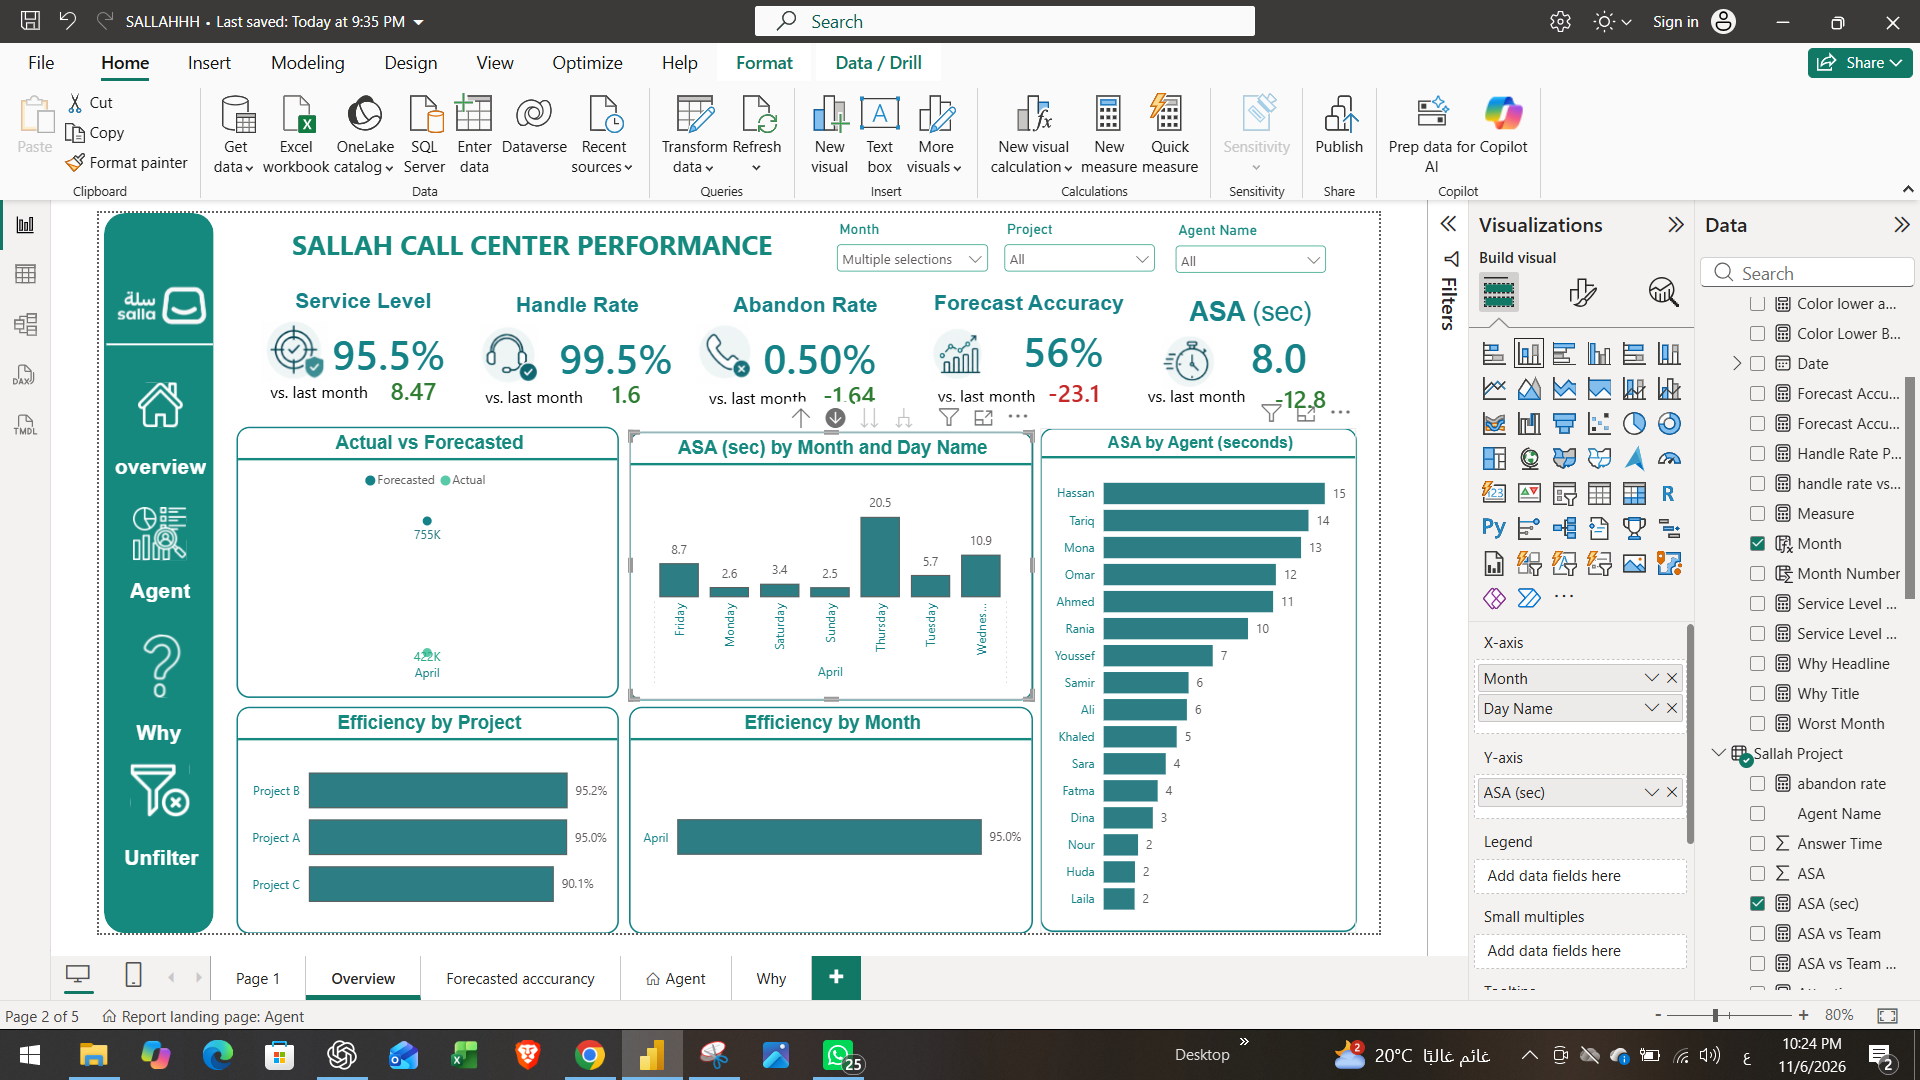

This screenshot's page, from the dashboard's own definition file:
{"tool":"powerbi","page":{"name":"Overview","canvas":[1280,720],"ordinal":1},"visuals":[{"type":"textbox","box":[103,8.2,621.4,52.9],"z":0,"group":"g2"},{"type":"shape","box":[4.8,0,109.8,720.2],"z":1000},{"type":"slicer","fields":{"Values":["Calendar.Month"]},"box":[728.1,2.2,171.3,71.2],"z":1000,"group":"g2"},{"type":"actionButton","box":[826.5,100.4,65.4,79.3],"z":1000,"group":"g1"},{"type":"slicer","fields":{"Values":["Sallah Project.Project"]},"box":[896,2.5,171.1,71],"z":2000,"group":"g2"},{"type":"textbox","box":[1071,78.2,160.5,45.3],"z":2000,"group":"g1"},{"type":"slicer","fields":{"Values":["Sallah Project.Agent Name"]},"box":[1067.2,3.6,171.1,58.4],"z":3000,"group":"g2"},{"type":"actionButton","box":[132.2,100.4,126.6,75.1],"z":3000,"group":"g1"},{"type":"barChart","title":"ASA by Agent (seconds)","fields":{"Category":["Sallah Project.Agent Name"],"Y":["Sallah Project.ASA (sec)"]},"box":[940.8,215.4,317.1,504.3],"z":3000},{"type":"cardVisual","fields":{"Data":["Sallah Project.Handle Rate %"]},"box":[420.9,85.8,192.5,112.5],"z":4000,"group":"g1"},{"type":"lineChart","title":"Actual vs Forecasted","fields":{"Category":["Calendar.Month"],"Y":["Sum(Sallah Project.Forecasted Calls)","Sum(Sallah Project.Calls Offered)"]},"box":[137.1,214.3,382.6,271.3],"z":4000},{"type":"group","id":"g1","title":"Group 1","box":[132.2,64.5,1144.2,150.2],"z":5000},{"type":"actionButton","box":[352,107.1,114.1,68.2],"z":5000,"group":"g1"},{"type":"textbox","box":[369.3,74.8,217,45.9],"z":6000,"group":"g1"},{"type":"barChart","title":"Efficiency by Project","fields":{"Category":["Sallah Project.Project"],"Y":["Sallah Project.efficiency"]},"box":[137.2,493.5,382.5,227.5],"z":6000},{"type":"textbox","box":[591.9,74.6,228.2,48.7],"z":7000,"group":"g1"},{"type":"barChart","title":"Efficiency by Month","fields":{"Category":["Calendar.Month"],"Y":["Sallah Project.efficiency"]},"box":[529.9,493.1,404.2,226.8],"z":7000},{"type":"textbox","box":[825.1,72.6,210.1,50.1],"z":8000,"group":"g1"},{"type":"columnChart","fields":{"Category":["Calendar.Month","Sallah Project.Day Name"],"Y":["Sallah Project.ASA (sec)"]},"box":[530.4,218.1,404.2,269],"z":8000},{"type":"textbox","box":[165.6,71.2,196.2,34.8],"z":9000,"group":"g1"},{"type":"actionButton","box":[34.8,146.1,52.9,91.8],"z":9000},{"type":"cardVisual","fields":{"Data":["Sallah Project.abandon rate"]},"box":[621,70.8,200,142.5],"z":10000,"group":"g1"},{"type":"actionButton","box":[27.8,417.4,90.4,71],"z":10000},{"type":"cardVisual","fields":{"Data":["Sallah Project.ASA (sec)"]},"box":[1107.3,75.4,145.5,131.7],"z":11000,"group":"g1"},{"type":"cardVisual","fields":{"Data":["Sallah Project.Service Level %"]},"box":[197.5,86.8,185.8,103.8],"z":12000,"group":"g1"},{"type":"actionButton","box":[30.6,289.4,65.4,61.2],"z":12000},{"type":"group","id":"g2","title":"Group 2","box":[103,2.2,1135.3,71.2],"z":13000},{"type":"cardVisual","fields":{"Data":["Sallah Project.Forecast Accuracy %"]},"box":[863.6,64.5,202.5,141.2],"z":13000,"group":"g1"},{"type":"textbox","box":[1043.6,165.9,124.3,40],"z":14000,"group":"g1"},{"type":"actionButton","box":[27.1,544.3,82.9,67.1],"z":14000},{"type":"actionButton","box":[589.1,99.6,71,80.7],"z":15000},{"type":"cardVisual","fields":{"Data":["Calendar.ASA vs LM"]},"box":[1146,153,130.4,61.7],"z":15000,"group":"g1"},{"type":"actionButton","box":[1040.7,119.1,96,61.2],"z":16000},{"type":"textbox","box":[604.4,167.8,115.5,43.1],"z":16000,"group":"g1"},{"type":"actionButton","box":[11.1,229.6,100.2,48.7],"z":17000},{"type":"actionButton","box":[11.1,353.4,100.2,48.7],"z":18000},{"type":"actionButton","box":[10,495.7,100,48.6],"z":19000},{"type":"actionButton","box":[12.9,621.4,100,47.1],"z":20000},{"type":"actionButton","box":[0.3,22.3,132.7,92.9],"z":21000},{"type":"textbox","box":[165.7,162.9,118.6,41.4],"z":23000},{"type":"textbox","box":[380.7,167.8,125.2,43.1],"z":24000},{"type":"cardVisual","fields":{"Data":["Calendar.Service Level vs LM"]},"box":[263,145,115.8,63.9],"z":25000},{"type":"cardVisual","fields":{"Data":["Calendar.Forecast Accuracy vs LM"]},"box":[919.7,146.4,130.3,63.9],"z":26000},{"type":"cardVisual","fields":{"Data":["Calendar.Abandon Rate vs LM"]},"box":[694.8,148.3,118.3,64],"z":27000},{"type":"cardVisual","fields":{"Data":["Calendar.handle rate vs LM"]},"box":[483.6,146.9,115.8,63.9],"z":28000},{"type":"textbox","box":[833.4,166.4,125.2,44.5],"z":29000},{"type":"shape","box":[7.4,104.2,106.7,55.2],"z":30000}]}

Visuals, with their boxes on the page's 1280x720 design canvas (x1, y1, x2, y2). These are canvas units, not pixel positions in the 1920x1080 screenshot, which may show the page scaled, cropped or inside an application window:
textbox: box=[103, 8, 724, 61]
shape: box=[5, 0, 115, 720]
slicer - Calendar.Month: box=[728, 2, 899, 73]
actionButton: box=[826, 100, 892, 180]
slicer - Sallah Project.Project: box=[896, 2, 1067, 74]
textbox: box=[1071, 78, 1232, 124]
slicer - Sallah Project.Agent Name: box=[1067, 4, 1238, 62]
actionButton: box=[132, 100, 259, 176]
"ASA by Agent (seconds)" barChart: box=[941, 215, 1258, 720]
cardVisual - Sallah Project.Handle Rate %: box=[421, 86, 613, 198]
"Actual vs Forecasted" lineChart: box=[137, 214, 520, 486]
"Group 1" group: box=[132, 64, 1276, 215]
actionButton: box=[352, 107, 466, 175]
textbox: box=[369, 75, 586, 121]
"Efficiency by Project" barChart: box=[137, 494, 520, 721]
textbox: box=[592, 75, 820, 123]
"Efficiency by Month" barChart: box=[530, 493, 934, 720]
textbox: box=[825, 73, 1035, 123]
columnChart - Calendar.Month x Sallah Project.Day Name: box=[530, 218, 935, 487]
textbox: box=[166, 71, 362, 106]
actionButton: box=[35, 146, 88, 238]
cardVisual - Sallah Project.abandon rate: box=[621, 71, 821, 213]
actionButton: box=[28, 417, 118, 488]
cardVisual - Sallah Project.ASA (sec): box=[1107, 75, 1253, 207]
cardVisual - Sallah Project.Service Level %: box=[198, 87, 383, 191]
actionButton: box=[31, 289, 96, 351]
"Group 2" group: box=[103, 2, 1238, 73]
cardVisual - Sallah Project.Forecast Accuracy %: box=[864, 64, 1066, 206]
textbox: box=[1044, 166, 1168, 206]
actionButton: box=[27, 544, 110, 611]
actionButton: box=[589, 100, 660, 180]
cardVisual - Calendar.ASA vs LM: box=[1146, 153, 1276, 215]
actionButton: box=[1041, 119, 1137, 180]
textbox: box=[604, 168, 720, 211]
actionButton: box=[11, 230, 111, 278]
actionButton: box=[11, 353, 111, 402]
actionButton: box=[10, 496, 110, 544]
actionButton: box=[13, 621, 113, 668]
actionButton: box=[0, 22, 133, 115]
textbox: box=[166, 163, 284, 204]
textbox: box=[381, 168, 506, 211]
cardVisual - Calendar.Service Level vs LM: box=[263, 145, 379, 209]
cardVisual - Calendar.Forecast Accuracy vs LM: box=[920, 146, 1050, 210]
cardVisual - Calendar.Abandon Rate vs LM: box=[695, 148, 813, 212]
cardVisual - Calendar.handle rate vs LM: box=[484, 147, 599, 211]
textbox: box=[833, 166, 959, 211]
shape: box=[7, 104, 114, 159]
